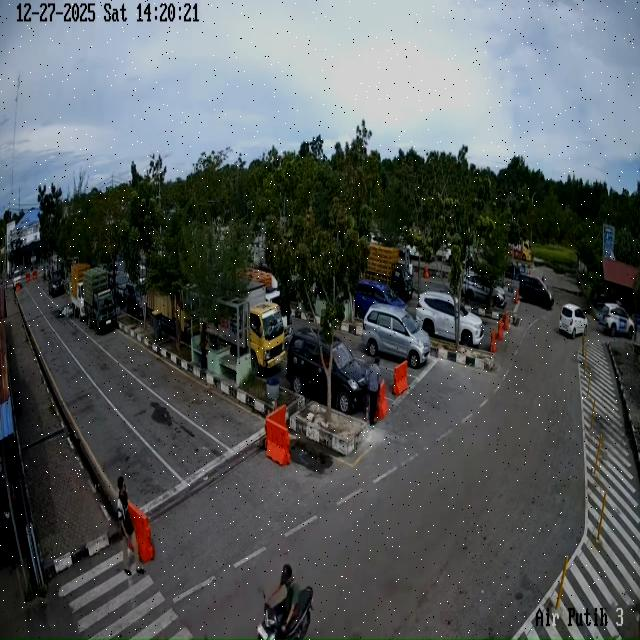Golongan IVA: (286, 327, 367, 414), (362, 304, 430, 369), (416, 291, 484, 347), (354, 279, 406, 320), (462, 272, 507, 309), (518, 274, 554, 310), (599, 302, 634, 339), (559, 304, 588, 338), (48, 272, 64, 298)
Golongan IVB: (83, 264, 117, 332), (71, 263, 92, 321)
Golongan VB: (207, 281, 286, 372)
